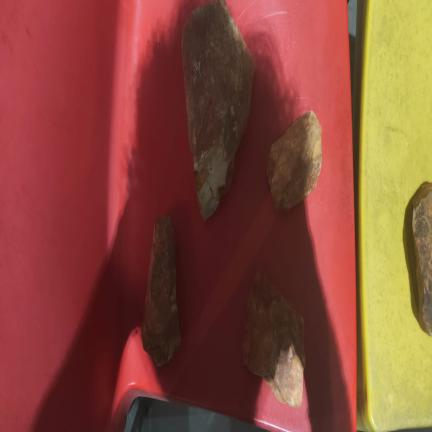Rocks: (182, 0, 253, 219), (243, 274, 305, 406), (142, 217, 180, 365), (268, 111, 321, 209), (413, 183, 431, 335)
